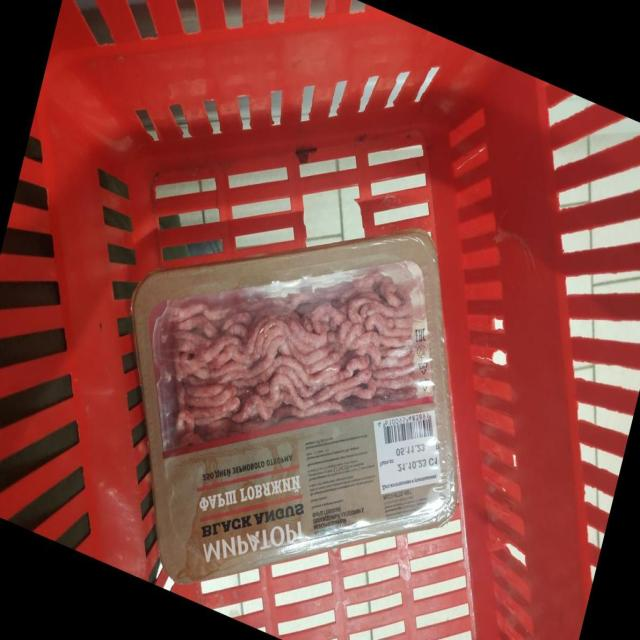Meat: (131, 229, 456, 582)
